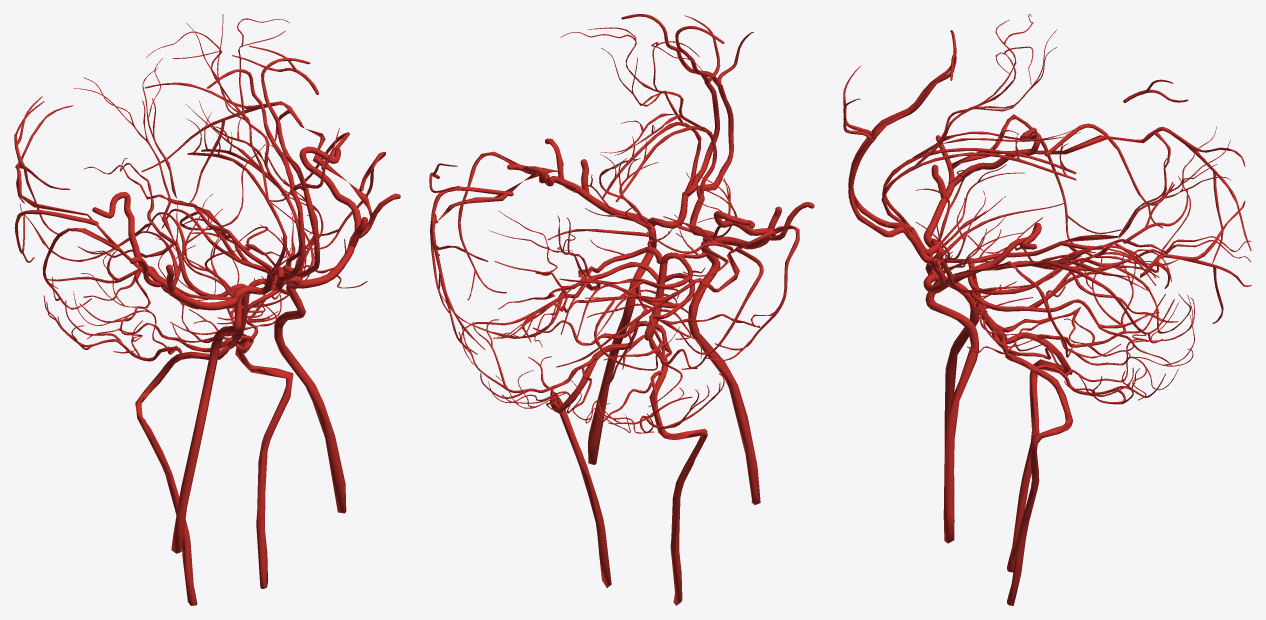
The model's file is gefkopf.glb.
3 renders of one model, left to right at view 1: azimuth 30°, elevation 25°; view 2: azimuth 150°, elevation 25°; view 3: azimuth 270°, elevation 25°, orthographic. The views are drawn at different scales.
Parts seen in each view (by area): view 1: Left internal carotid artery, Right internal carotid artery, Left vertebral artery, Right vertebral artery, Temporo-occipital branch of left middle cerebral artery, Temporo-occipital branch of right middle cerebral artery, Insular part of left middle cerebral artery, Insular part of right middle cerebral artery, Anterolateral central branch of right middle cerebral artery, Right pericallosal artery, Posteromedial branch of right callosomarginal artery, Right callosomarginal artery (+12 smaller); view 2: Right internal carotid artery, Left vertebral artery, Right vertebral artery, Left internal carotid artery, Temporo-occipital branch of right middle cerebral artery, Temporo-occipital branch of left middle cerebral artery, Right pericallosal artery, Left pericallosal artery, Right callosomarginal artery, Middle temporal branch of right middle cerebral artery, Middle temporal branch of left middle cerebral artery, Left callosomarginal artery (+7 smaller); view 3: Left internal carotid artery, Left vertebral artery, Right vertebral artery, Temporo-occipital branch of right middle cerebral artery, Temporo-occipital branch of left middle cerebral artery, Right internal carotid artery, Left pericallosal artery, Right pericallosal artery, Left callosomarginal artery, Insular part of left middle cerebral artery, Insular part of right middle cerebral artery, Anterolateral central branch of right middle cerebral artery (+9 smaller).
Boxes of the visible parts, box(x1,y1,x2,y2) form: Left internal carotid artery: box(274, 281, 346, 513); Right internal carotid artery: box(171, 298, 241, 553); Left vertebral artery: box(235, 340, 293, 588); Right vertebral artery: box(135, 345, 229, 605); Temporo-occipital branch of left middle cerebral artery: box(141, 82, 371, 217); Temporo-occipital branch of right middle cerebral artery: box(15, 105, 143, 272); Insular part of left middle cerebral artery: box(299, 146, 361, 229); Insular part of right middle cerebral artery: box(92, 192, 160, 281); Anterolateral central branch of right middle cerebral artery: box(159, 194, 243, 297); Right pericallosal artery: box(185, 118, 287, 272); Posteromedial branch of right callosomarginal artery: box(207, 69, 294, 192); Right callosomarginal artery: box(268, 188, 305, 282); Right internal carotid artery: box(688, 238, 760, 504); Left vertebral artery: box(550, 335, 644, 587); Right vertebral artery: box(649, 338, 707, 605); Left internal carotid artery: box(588, 222, 656, 464); Temporo-occipital branch of right middle cerebral artery: box(556, 226, 782, 385); Temporo-occipital branch of left middle cerebral artery: box(430, 167, 561, 354); Right pericallosal artery: box(615, 126, 716, 201); Left pericallosal artery: box(600, 122, 701, 198); Right callosomarginal artery: box(696, 84, 733, 200); Middle temporal branch of right middle cerebral artery: box(706, 224, 799, 361); Middle temporal branch of left middle cerebral artery: box(458, 151, 535, 300); Left callosomarginal artery: box(682, 83, 719, 196); Left internal carotid artery: box(925, 272, 978, 543); Left vertebral artery: box(999, 337, 1072, 605); Right vertebral artery: box(1005, 332, 1072, 572); Temporo-occipital branch of right middle cerebral artery: box(952, 126, 1251, 263); Temporo-occipital branch of left middle cerebral artery: box(952, 200, 1251, 323); Right internal carotid artery: box(925, 241, 979, 439); Left pericallosal artery: box(881, 140, 1076, 235); Right pericallosal artery: box(882, 133, 1076, 225); Left callosomarginal artery: box(848, 138, 913, 239); Insular part of left middle cerebral artery: box(953, 223, 1041, 282); Insular part of right middle cerebral artery: box(950, 127, 1041, 186); Anterolateral central branch of right middle cerebral artery: box(915, 162, 1024, 245).
Size of the model in its own units: 0.1419 by 0.2329 by 0.1556.
